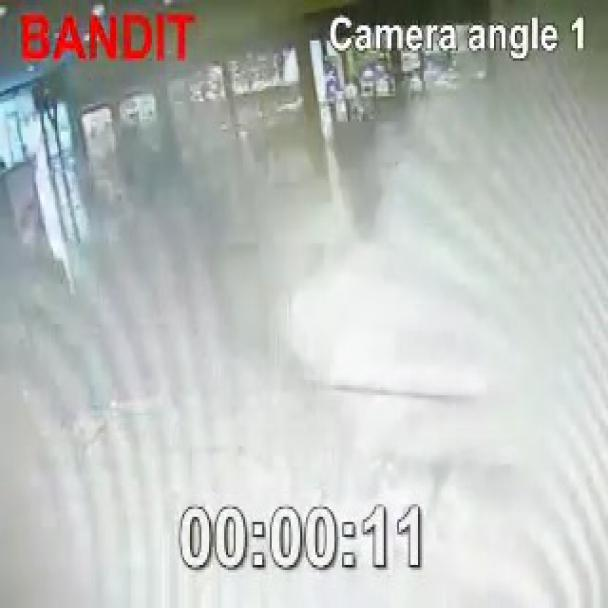smoke: (2, 89, 606, 606)
